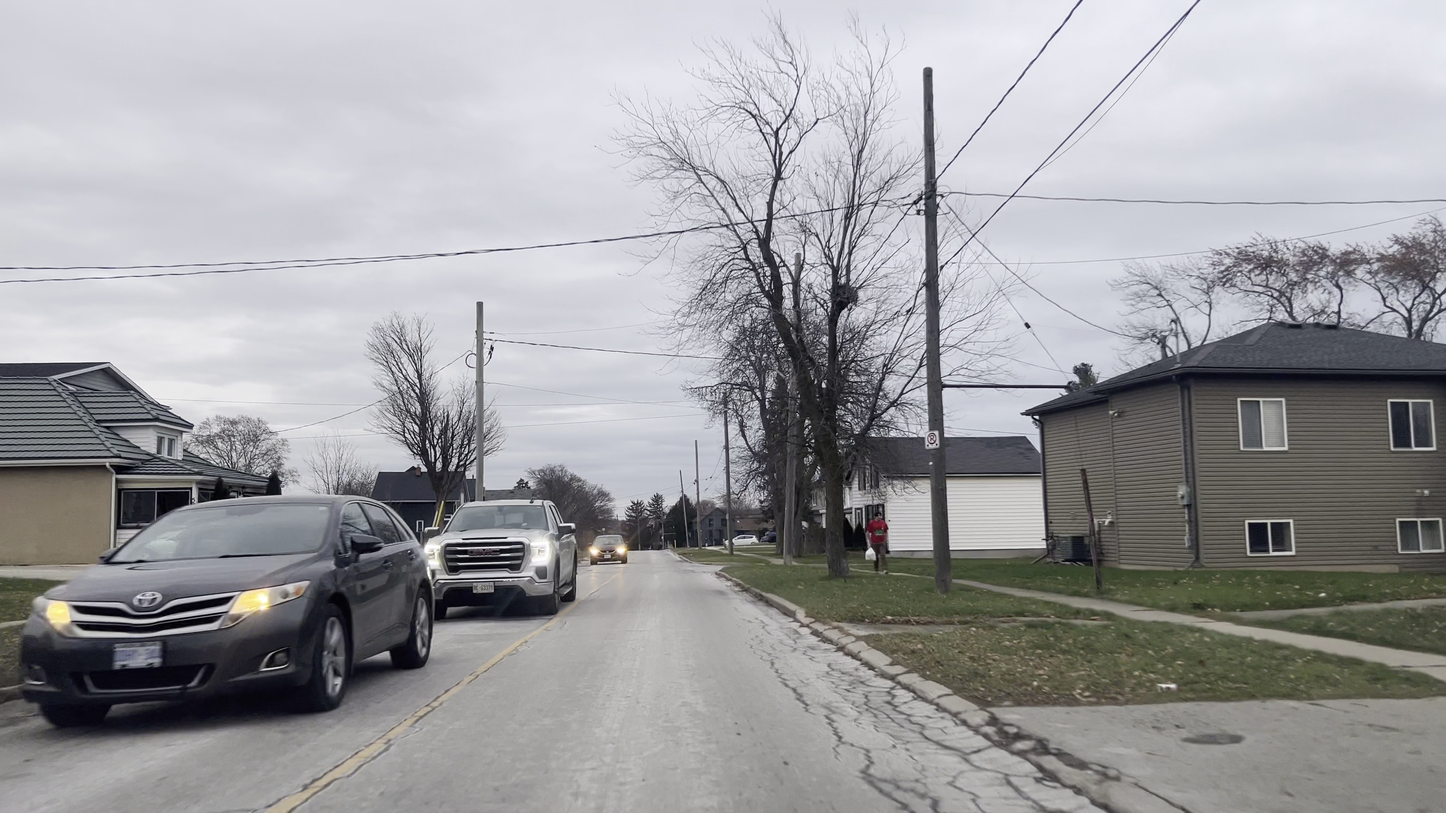cracks: (855, 739, 1062, 810), (811, 669, 928, 729), (793, 631, 832, 663)
